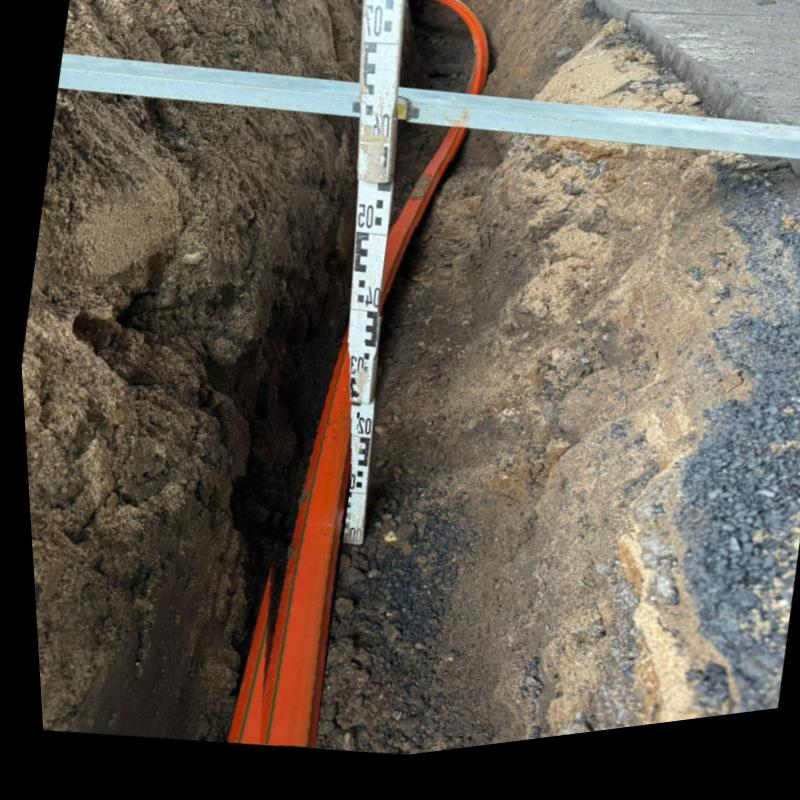Orang-Speednetrohrchen: (243, 343, 363, 755), (372, 139, 464, 326)
